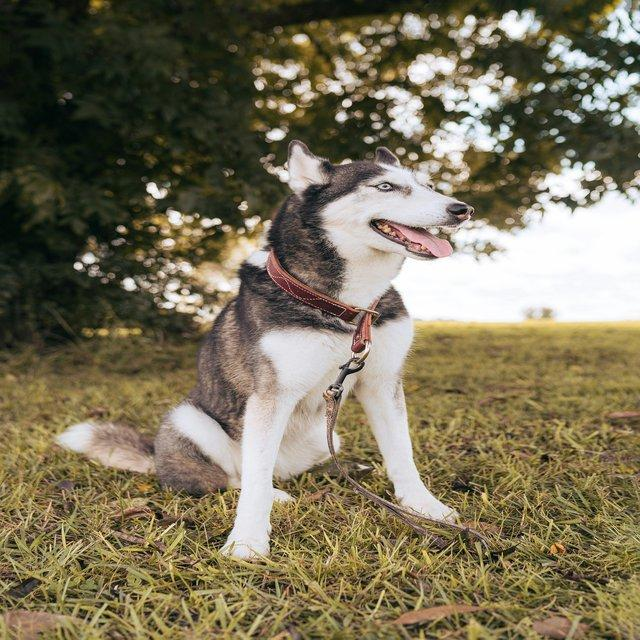husky: (54, 138, 475, 562)
